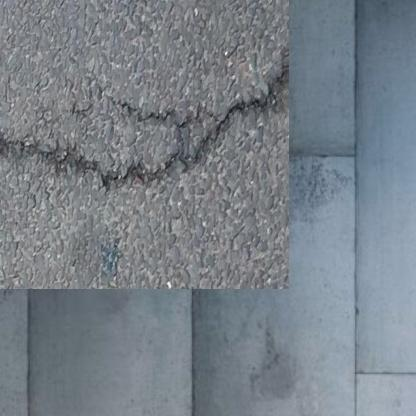Cracks: (0, 54, 267, 175), (100, 86, 166, 117)
